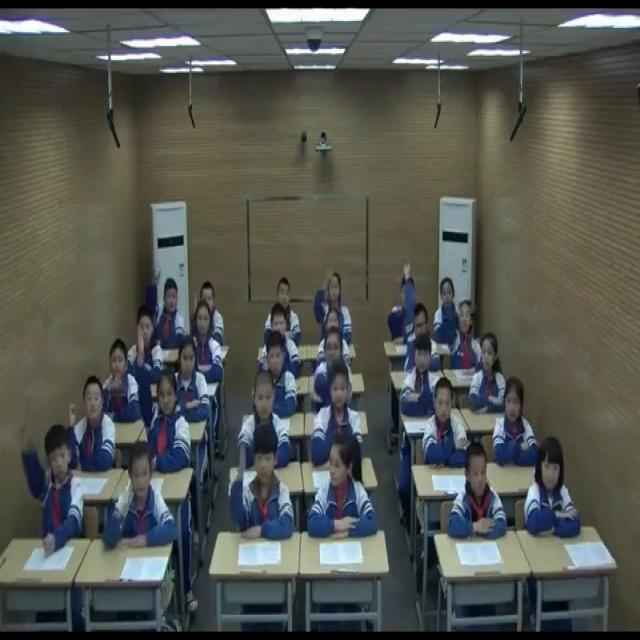distracted: (306, 436, 378, 545)
focused: (103, 438, 177, 554), (525, 432, 583, 538), (238, 368, 294, 469), (311, 365, 365, 467), (450, 443, 504, 543), (489, 374, 541, 470), (425, 379, 470, 465), (399, 335, 442, 420), (126, 305, 165, 390), (102, 338, 142, 417), (172, 338, 210, 420), (189, 300, 226, 383), (470, 332, 509, 410), (312, 331, 353, 405), (262, 334, 299, 412), (265, 301, 301, 374), (317, 308, 352, 371), (432, 274, 462, 346), (274, 276, 304, 344)
raising_hand: (21, 416, 84, 557), (135, 323, 189, 474), (231, 426, 295, 544), (69, 376, 119, 482), (401, 254, 442, 374), (440, 271, 488, 371), (313, 266, 355, 345), (151, 261, 184, 350), (191, 280, 226, 346)
